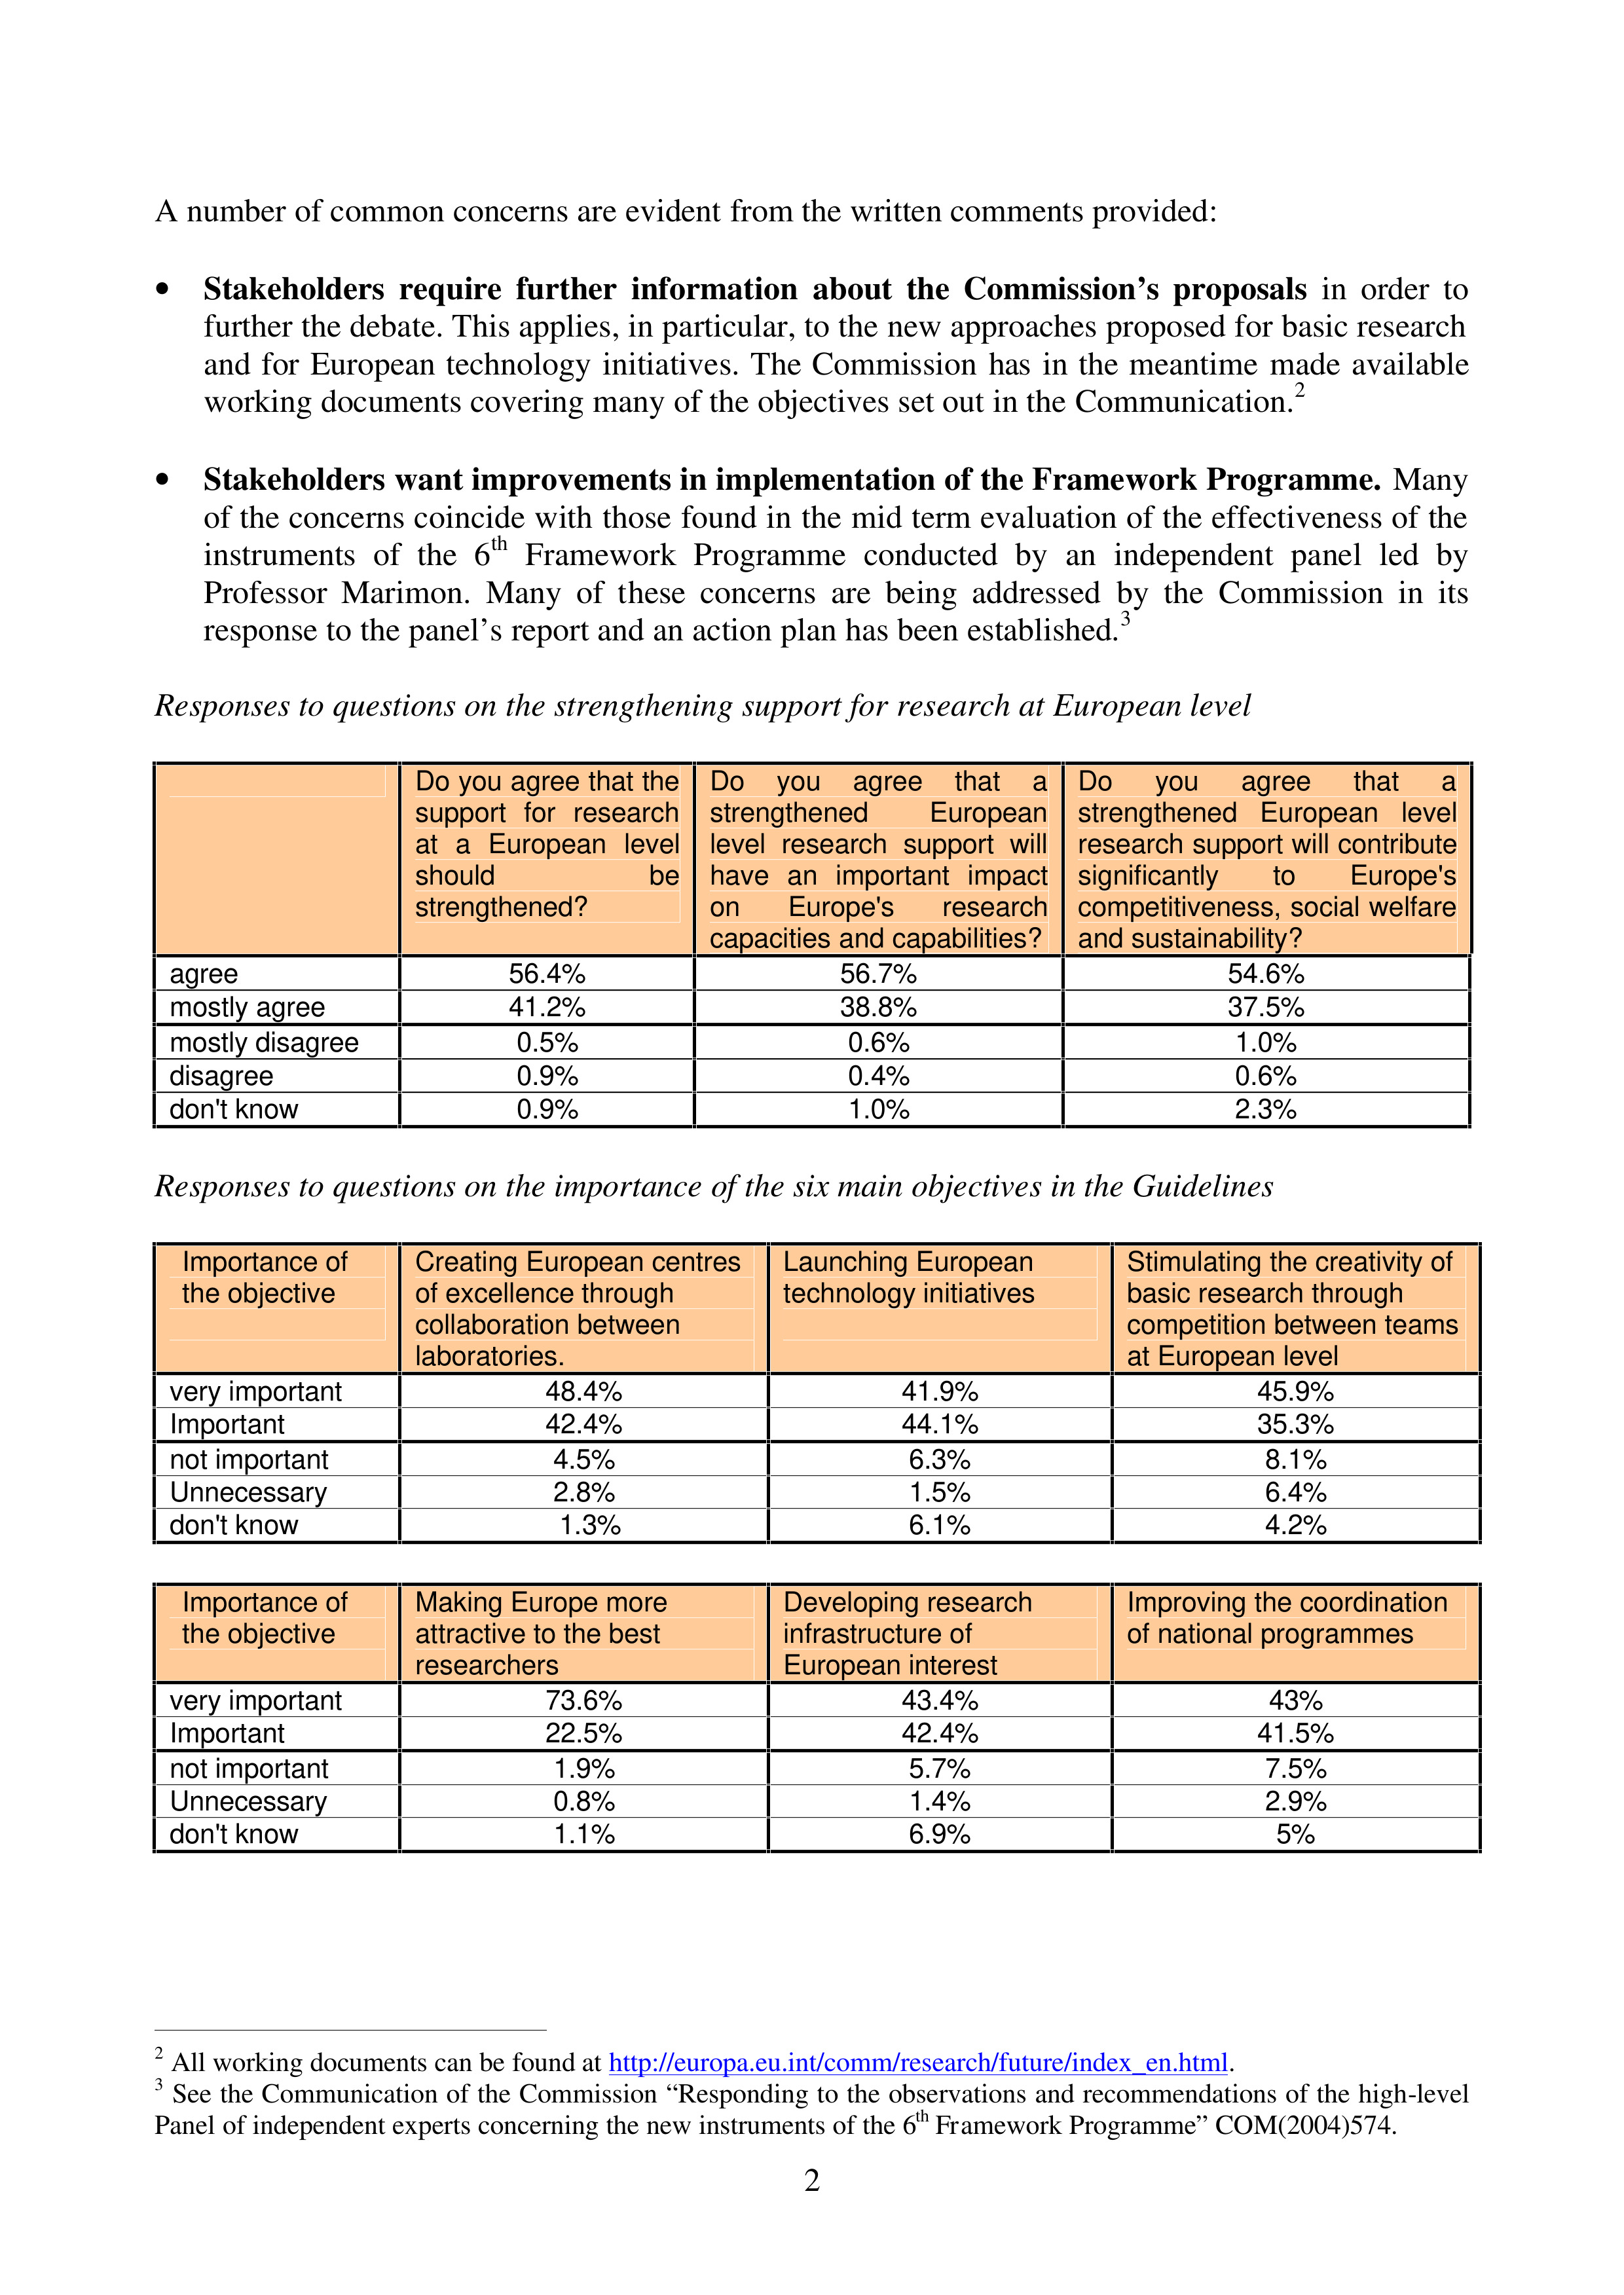table: (169, 761, 1457, 1126), (169, 1241, 1459, 1543), (169, 1582, 1448, 1852)
